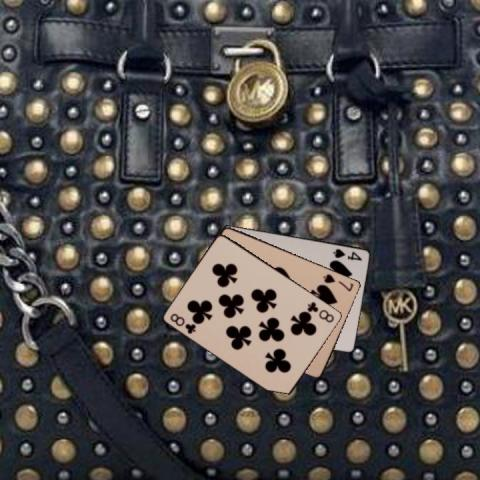4s: (330, 245, 363, 262)
7s: (320, 270, 354, 292)
8c: (305, 299, 336, 324), (167, 311, 198, 335)
